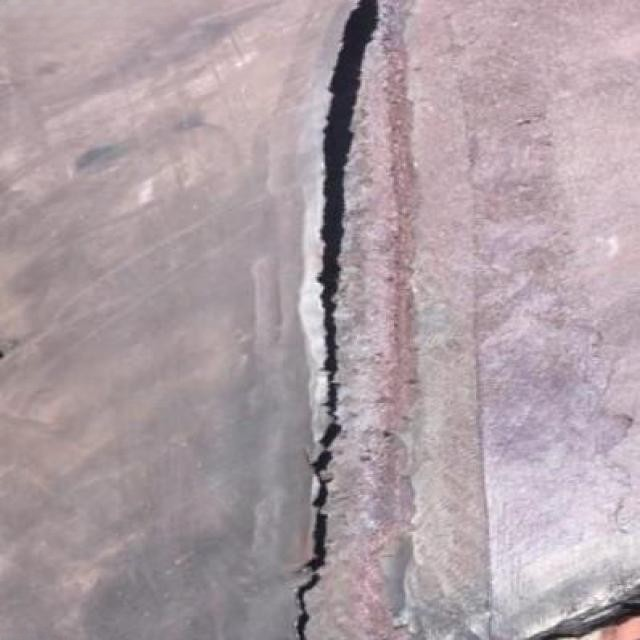Tear: (287, 0, 387, 639)
